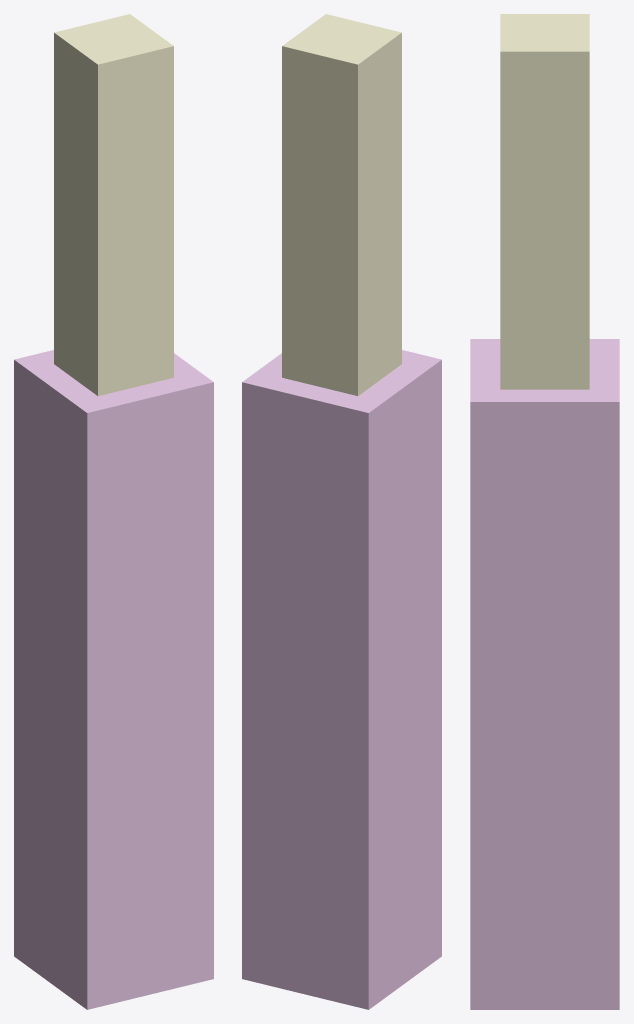
Rendered from Wall_B_Pillar.glb.
3 renders of one model, left to right at view 1: azimuth 30°, elevation 25°; view 2: azimuth 150°, elevation 25°; view 3: azimuth 270°, elevation 25°, orthographic.
Visible parts, largest first — view 1: Wall B Pillar; view 2: Wall B Pillar; view 3: Wall B Pillar.
Boxes of the visible parts, x1=… form: Wall B Pillar: x1=14, y1=14, x2=213, y2=1009; Wall B Pillar: x1=242, y1=14, x2=441, y2=1009; Wall B Pillar: x1=470, y1=14, x2=619, y2=1009.
Size of the model in its own units: 0.5 by 3.5 by 0.5.
